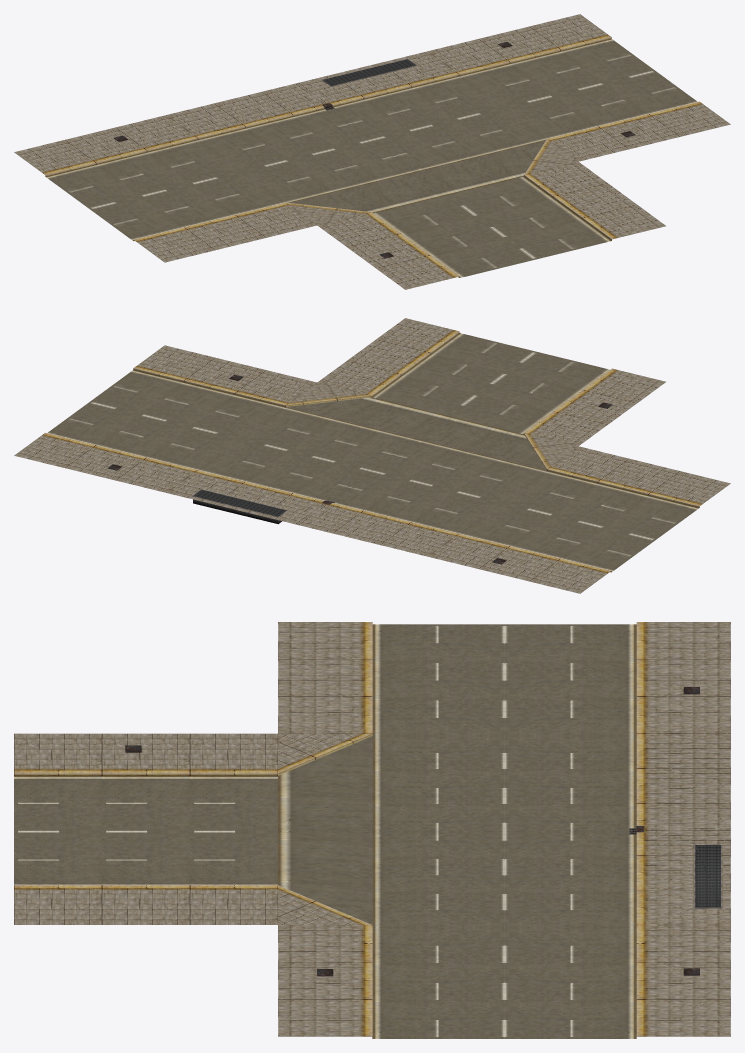
Rendered from Road2_Part_08_B.fbx.
3 views of the same model, one above another, from view 1: azimuth 30°, elevation 25°; view 2: azimuth 150°, elevation 25°; view 3: azimuth 270°, elevation 25° (orthographic). The views are drawn at different scales.
Parts seen in each view (by area): view 1: Model_Road2_Part_08_B; view 2: Model_Road2_Part_08_B; view 3: Model_Road2_Part_08_B.
Part boxes in pixels (x1,y1,x2,y2): Model_Road2_Part_08_B: (14, 14, 730, 289); Model_Road2_Part_08_B: (14, 318, 730, 593); Model_Road2_Part_08_B: (14, 622, 730, 1038).
Size of the model in its own units: 5200 by 65.51 by 3800.
